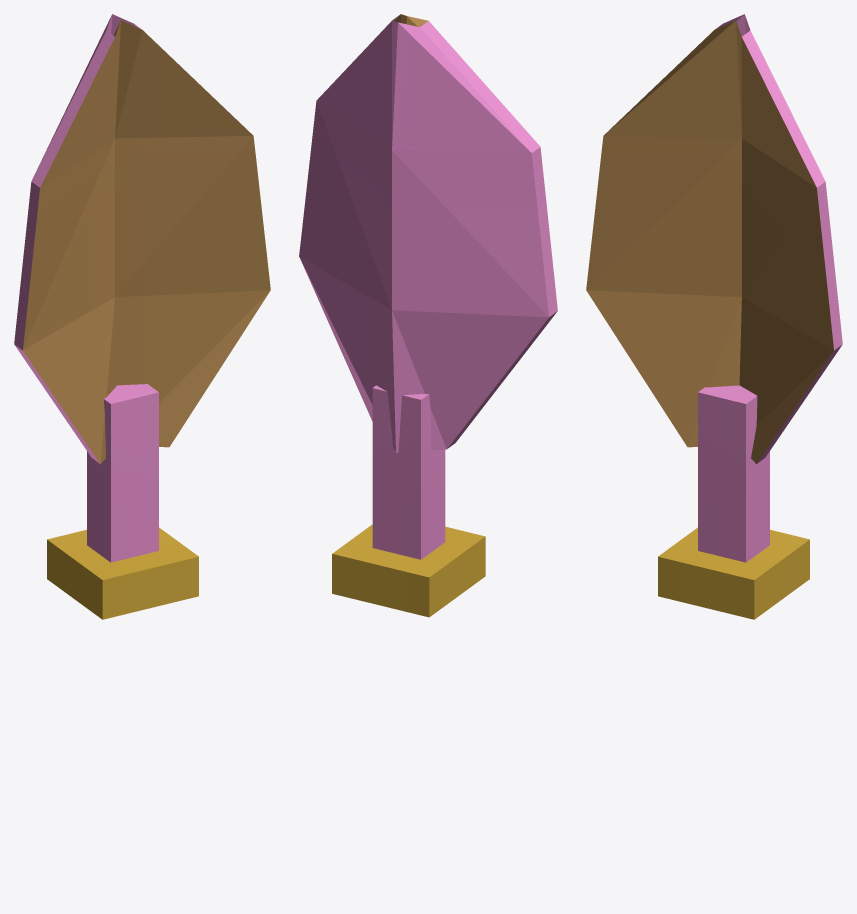
File: trowel.obj
The picture shows the model from 3 angles, left to right: view 1: azimuth 30°, elevation 25°; view 2: azimuth 150°, elevation 25°; view 3: azimuth 330°, elevation 25°; orthographic projection.
Visible parts, largest first — view 1: square_wood_grip_tang_and_concave_iron_scoop; view 2: square_wood_grip_tang_and_concave_iron_scoop; view 3: square_wood_grip_tang_and_concave_iron_scoop.
Part boxes in pixels (box(x1,y1,x2,y2)): square_wood_grip_tang_and_concave_iron_scoop: box(14, 14, 270, 619); square_wood_grip_tang_and_concave_iron_scoop: box(299, 14, 557, 617); square_wood_grip_tang_and_concave_iron_scoop: box(586, 14, 842, 619).
Size of the model in its own units: 0.225 by 0.7375 by 0.0875.
